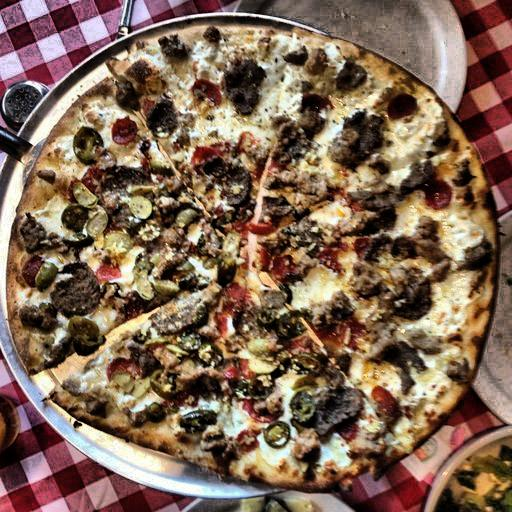pizza: (35, 46, 512, 503)
